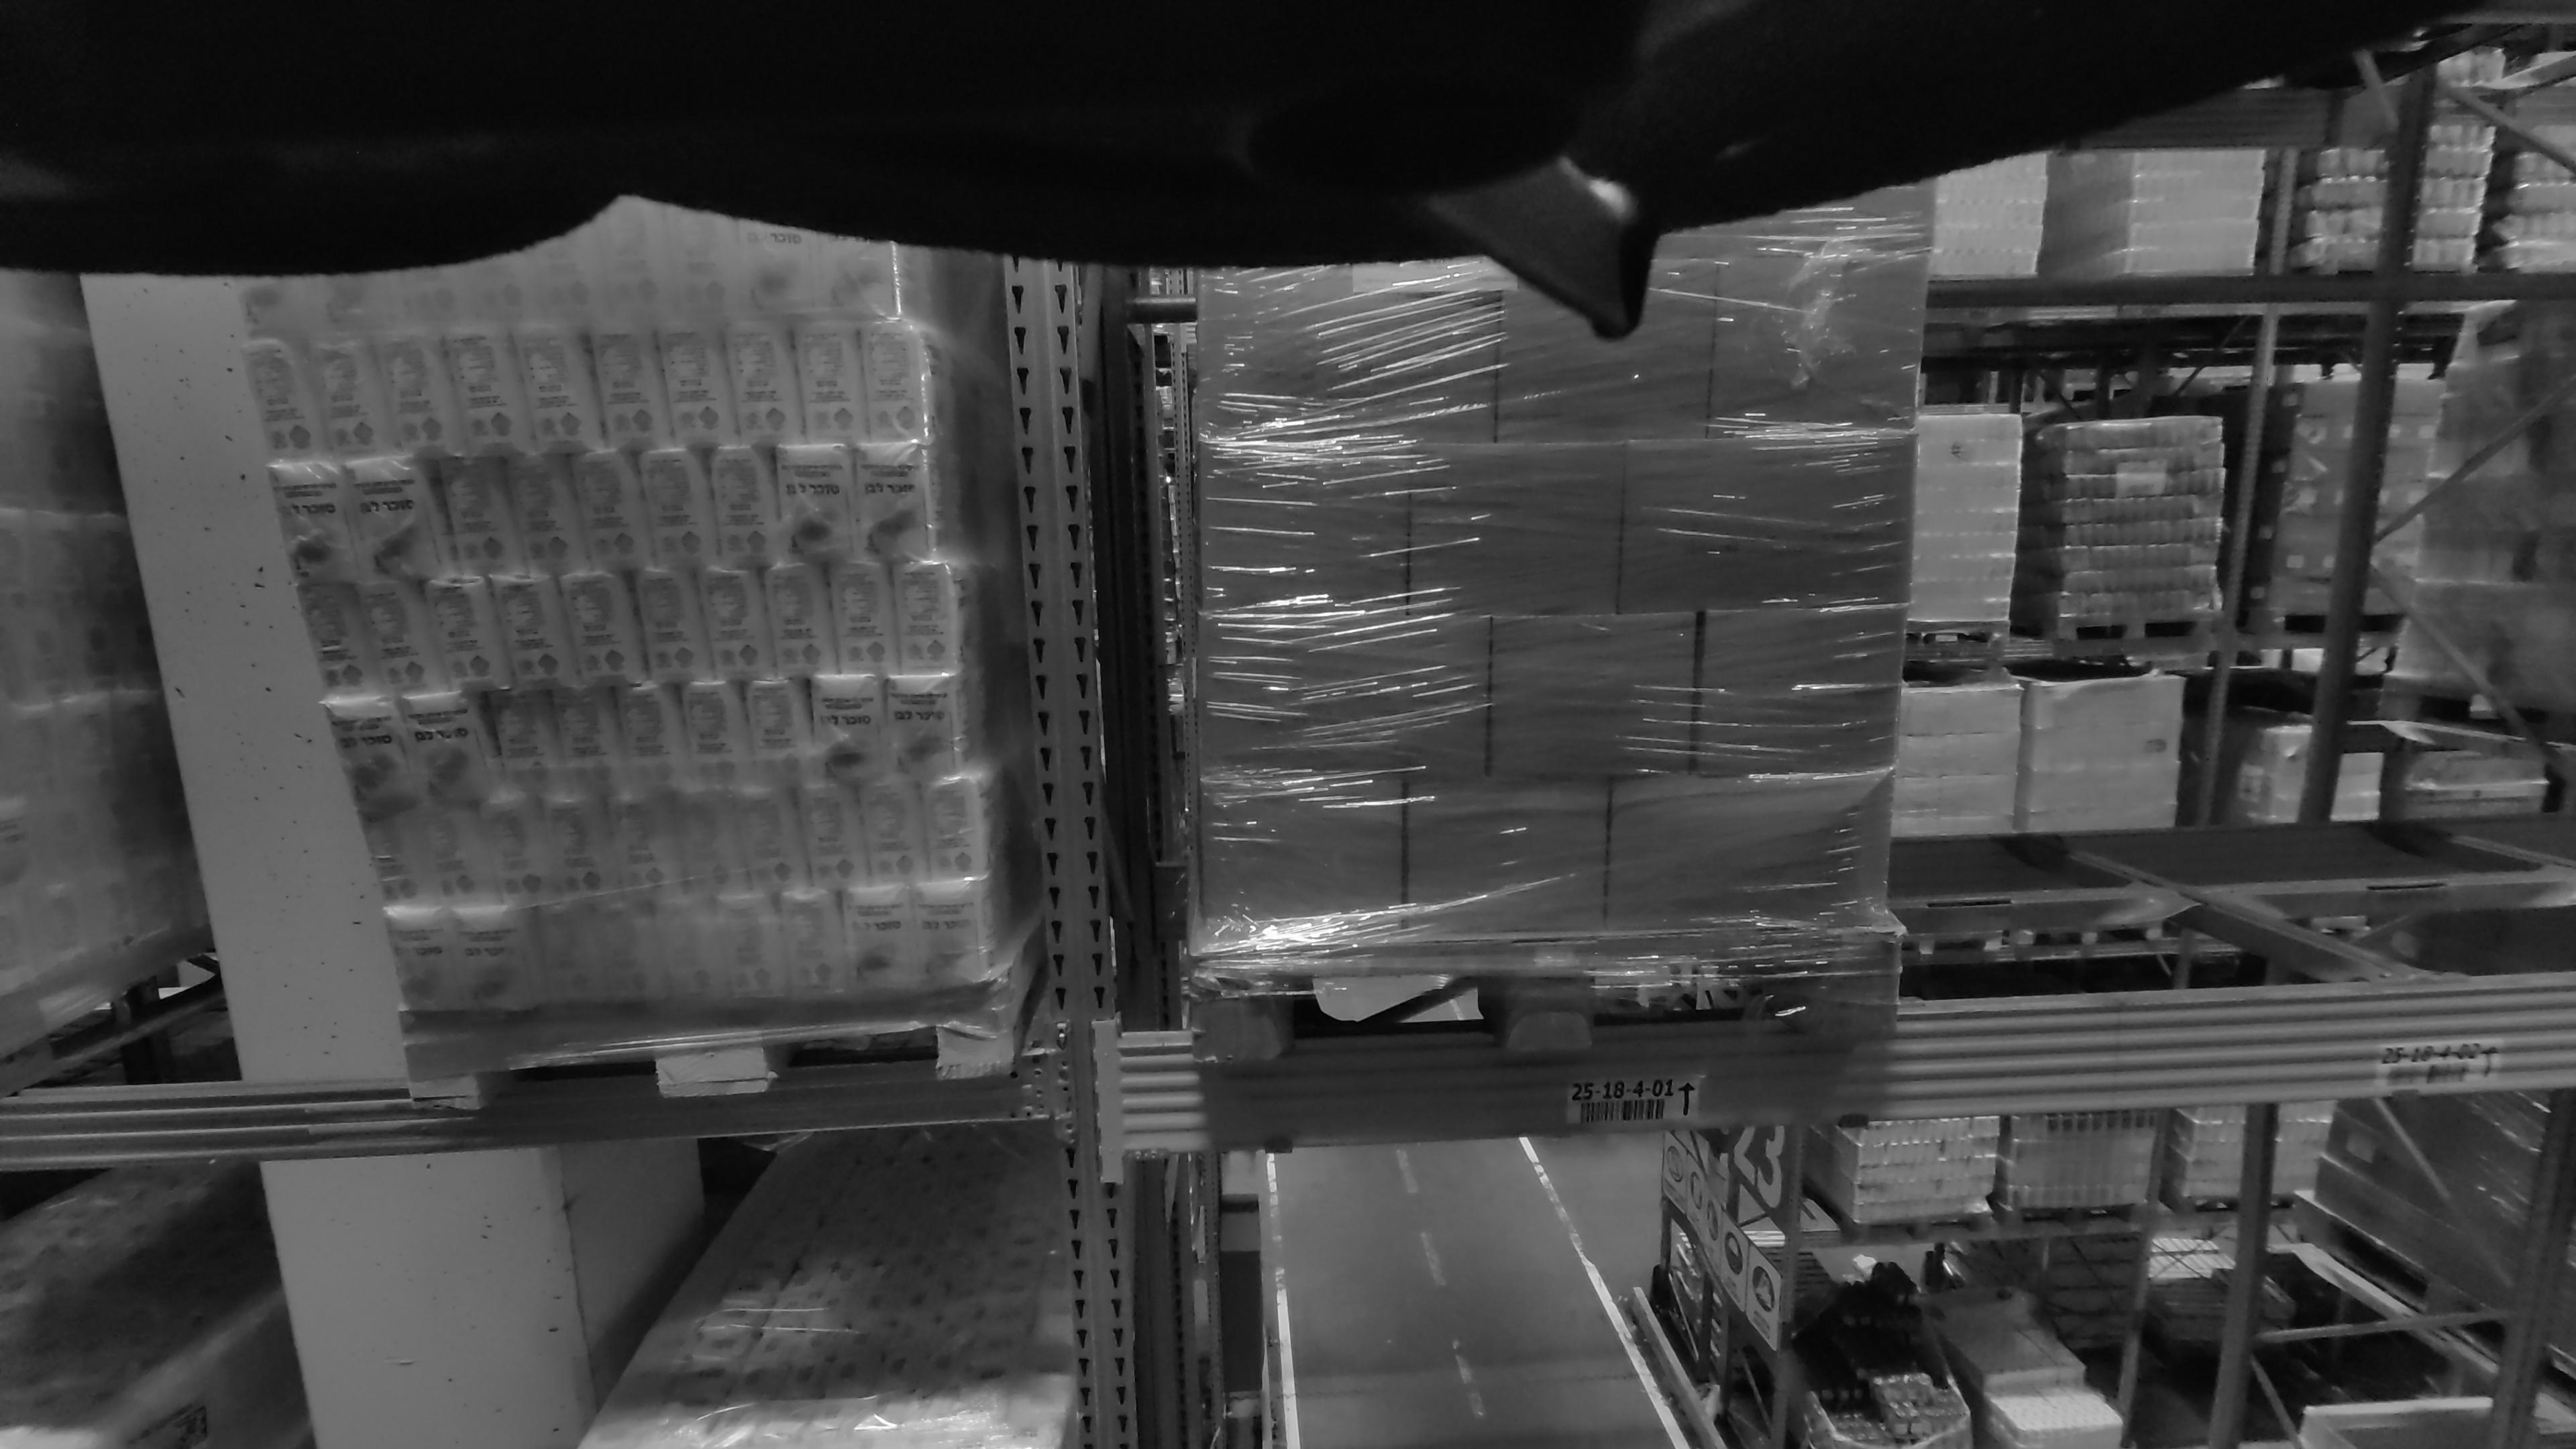empty-shelf: (1939, 0, 2576, 966)
